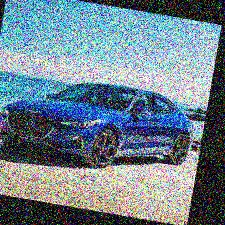car: (0, 58, 202, 183)
